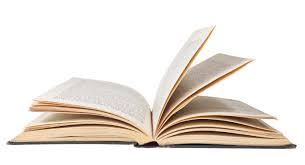Paper: (14, 25, 305, 165)
